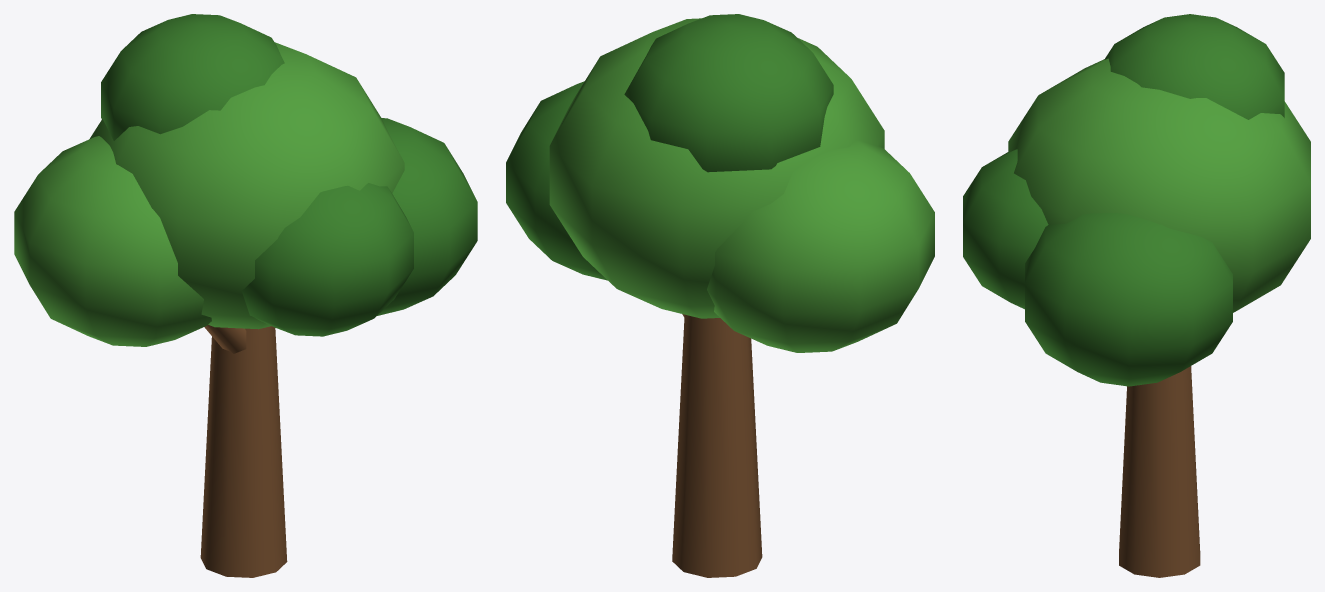
File: OakTree.obj
3 views of the same model, side by side, from view 1: azimuth 30°, elevation 25°; view 2: azimuth 150°, elevation 25°; view 3: azimuth 270°, elevation 25° (orthographic). The views are drawn at different scales.
Visible parts, largest first — view 1: Blob0, Blob2, Trunk, Blob3, Blob4, Blob1; view 2: Blob0, Blob2, Blob4, Trunk, Blob1; view 3: Blob0, Blob1, Trunk, Blob4, Blob3.
Part boxes in pixels (<box>): Blob0: <box>90,42,404,329</box>; Blob2: <box>14,136,211,346</box>; Trunk: <box>200,325,287,577</box>; Blob3: <box>242,183,413,336</box>; Blob4: <box>101,14,284,140</box>; Blob1: <box>377,118,477,315</box>; Blob0: <box>549,18,884,318</box>; Blob2: <box>707,140,934,352</box>; Blob4: <box>624,14,833,172</box>; Trunk: <box>672,314,762,577</box>; Blob1: <box>506,81,607,280</box>; Blob0: <box>1008,58,1310,312</box>; Blob1: <box>1025,213,1232,386</box>; Trunk: <box>1119,366,1200,577</box>; Blob4: <box>1104,14,1284,119</box>; Blob3: <box>963,149,1048,309</box>.
Size of the model in its own units: 4.54 by 5.65 by 3.41.
